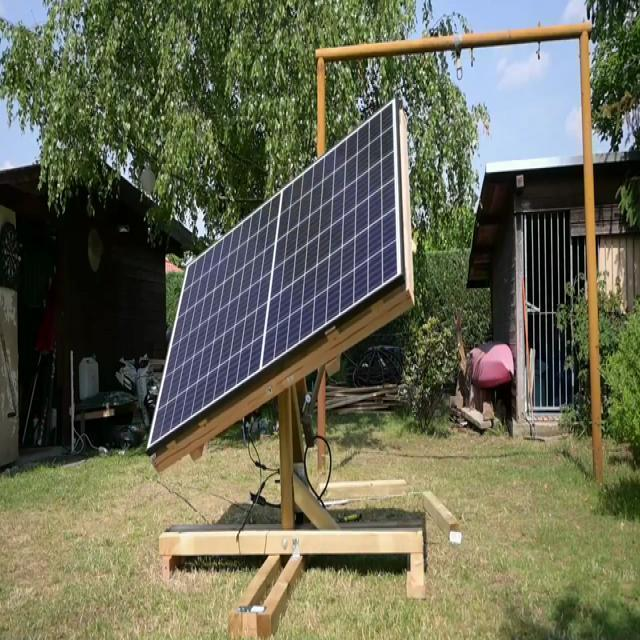Normal Solar Panel: (147, 101, 404, 447)
